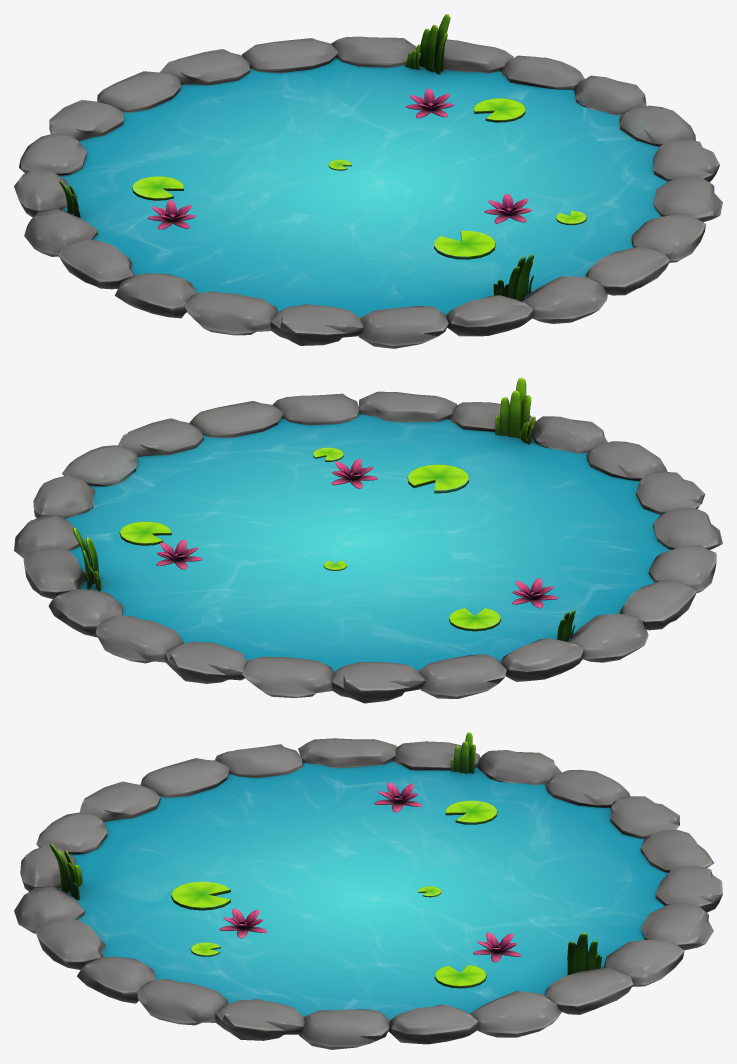
File: cartoon_pond.glb
The picture shows the model from 3 angles, top to bottom: view 1: azimuth 30°, elevation 25°; view 2: azimuth 150°, elevation 25°; view 3: azimuth 270°, elevation 25°; orthographic projection.
Visible parts, largest first — view 1: Pond; view 2: Pond; view 3: Pond.
Part boxes in pixels (x1,y1,x2,y2): Pond: [14, 14, 722, 348]; Pond: [14, 377, 722, 703]; Pond: [14, 732, 722, 1049].
Size of the model in its own units: 43.85 by 4.54 by 44.07.
Materials: 1 (1 with a texture image).
